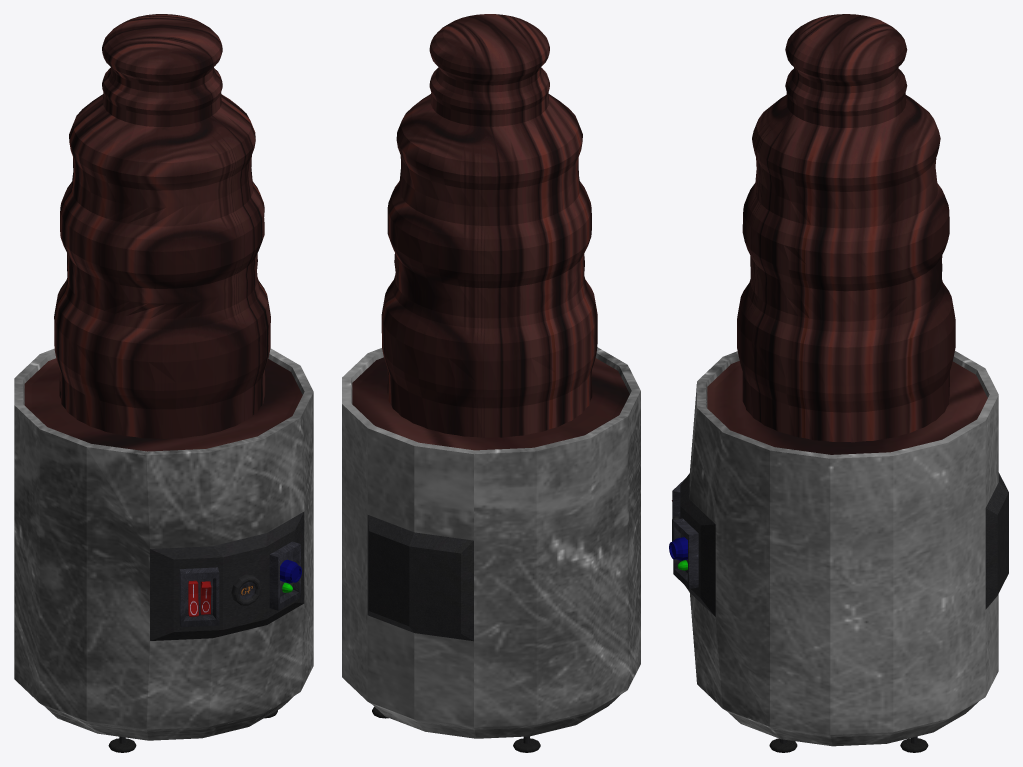
Rendered from Fonte de chocolate.fbx.
3 views of the same model, side by side, from view 1: azimuth 30°, elevation 25°; view 2: azimuth 150°, elevation 25°; view 3: azimuth 270°, elevation 25° (orthographic).
Visible parts, largest first — view 1: Cylinder; view 2: Cylinder; view 3: Cylinder.
Boxes of the visible parts, <box> form: Cylinder: <box>14,14,313,752</box>; Cylinder: <box>342,14,640,752</box>; Cylinder: <box>669,14,1008,752</box>.
Size of the model in its own units: 199 by 223 by 498.
